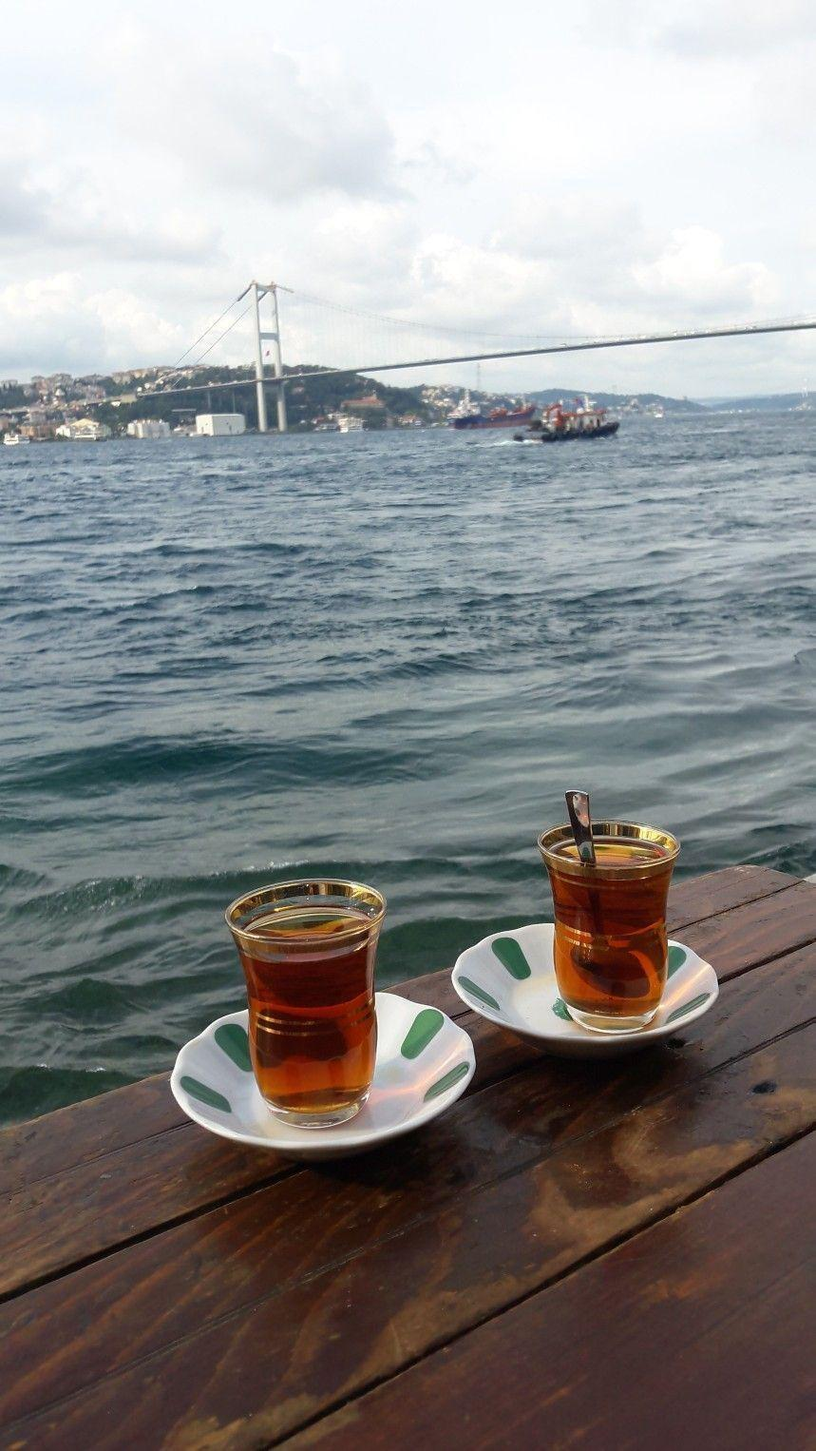glass-normal: (221, 871, 389, 1132), (537, 819, 680, 1035)
